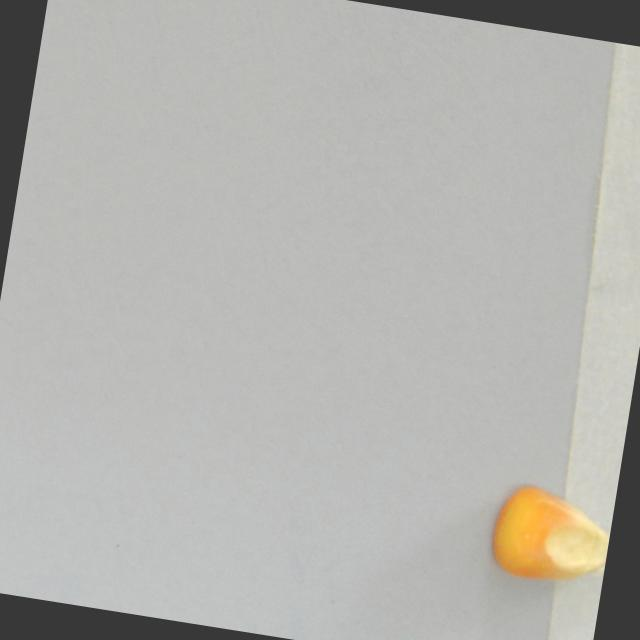entero: (486, 479, 616, 593)
